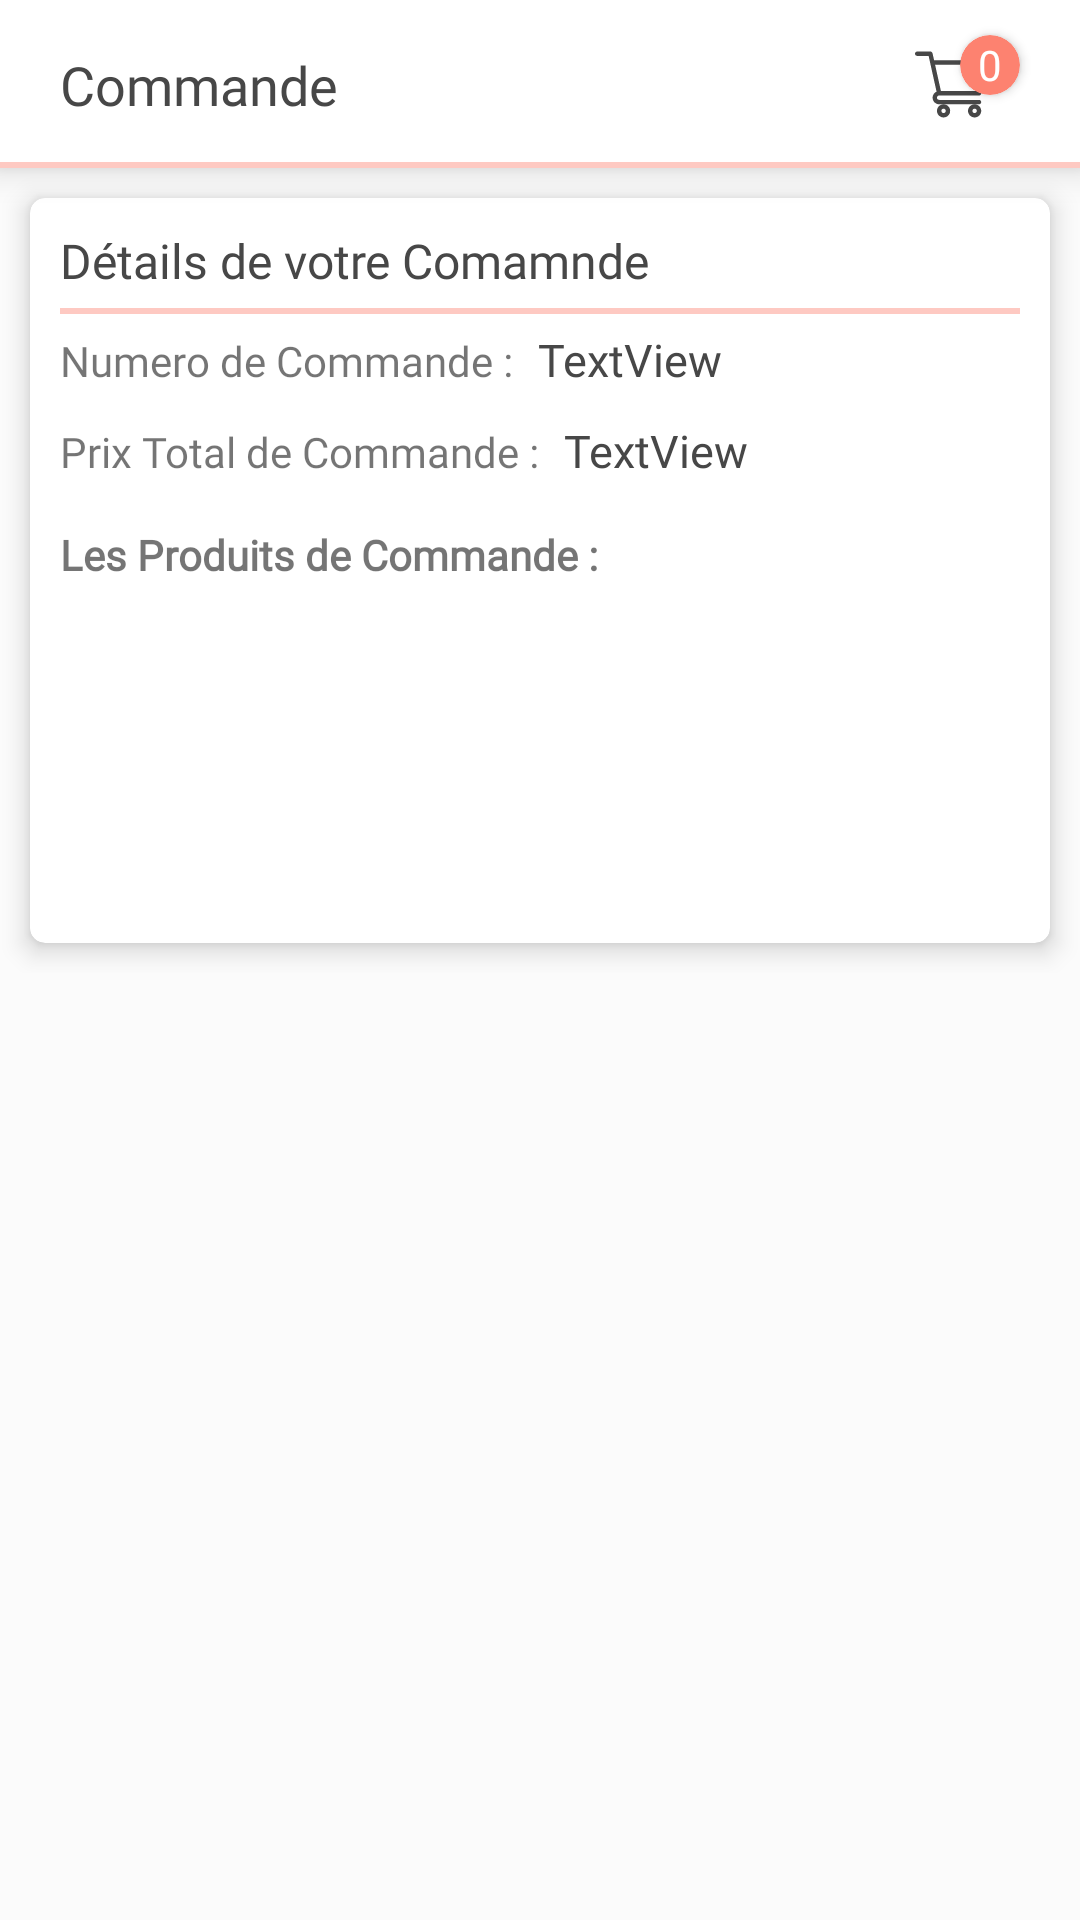

Locate icon controls on the screen. Image size 1080px×1920px, boxes as (left=x1, top=y1, right=x2, bottom=y2).
commerce and shopping: (left=915, top=47, right=990, bottom=118)
